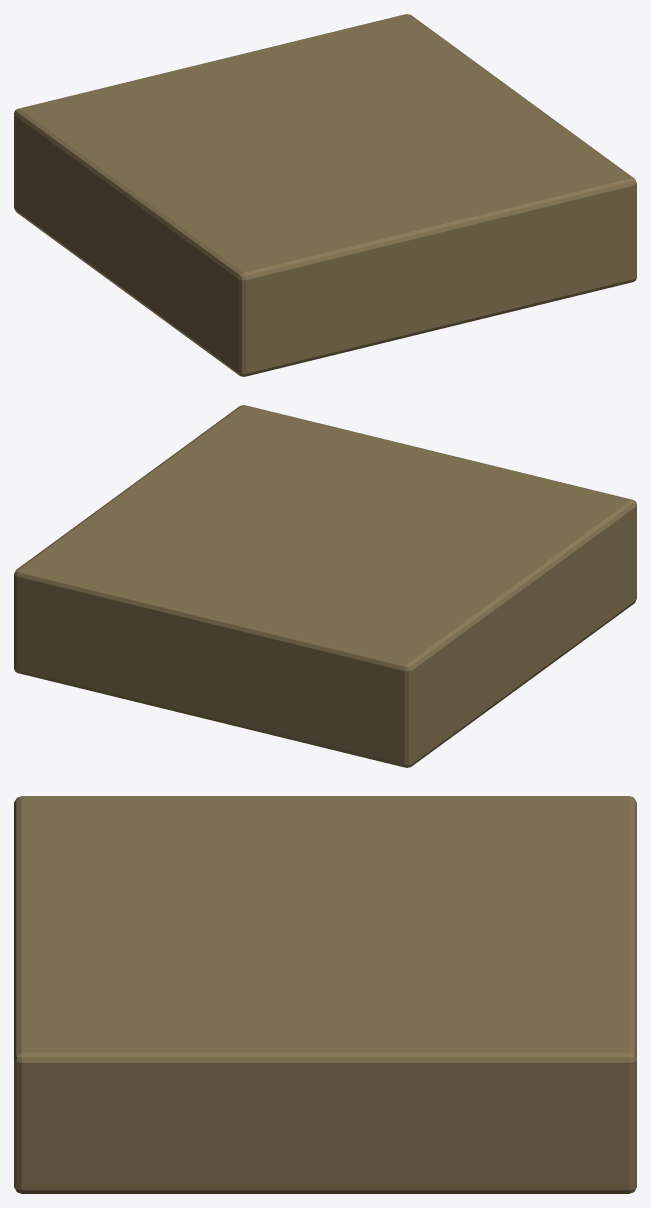
File: SM_Platform_4m_01_B.fbx
3 renders of one model, top to bottom at view 1: azimuth 30°, elevation 25°; view 2: azimuth 150°, elevation 25°; view 3: azimuth 270°, elevation 25°, orthographic. The views are drawn at different scales.
Parts seen in each view (by area): view 1: polySurface98; view 2: polySurface98; view 3: polySurface98.
Boxes of the visible parts, bbox=[...] form: polySurface98: bbox=[14, 14, 636, 376]; polySurface98: bbox=[14, 405, 636, 767]; polySurface98: bbox=[14, 796, 636, 1193].
Bounding box in the file's own units: 400 × 100 × 400.
